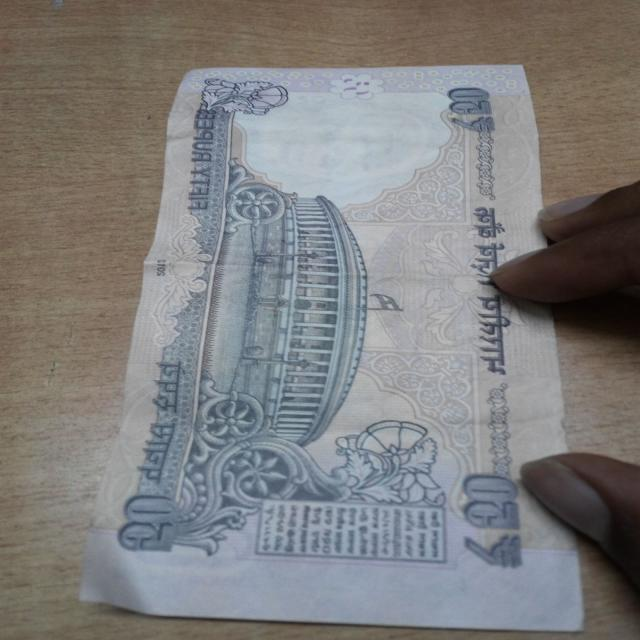50rs: (82, 36, 578, 623)
